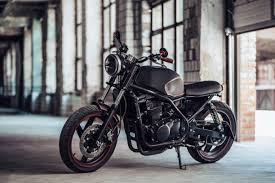motorcycle: (55, 32, 237, 173)
